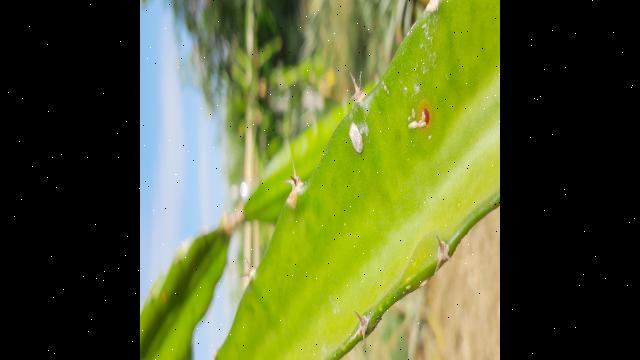stemcanker: (398, 99, 445, 136)
